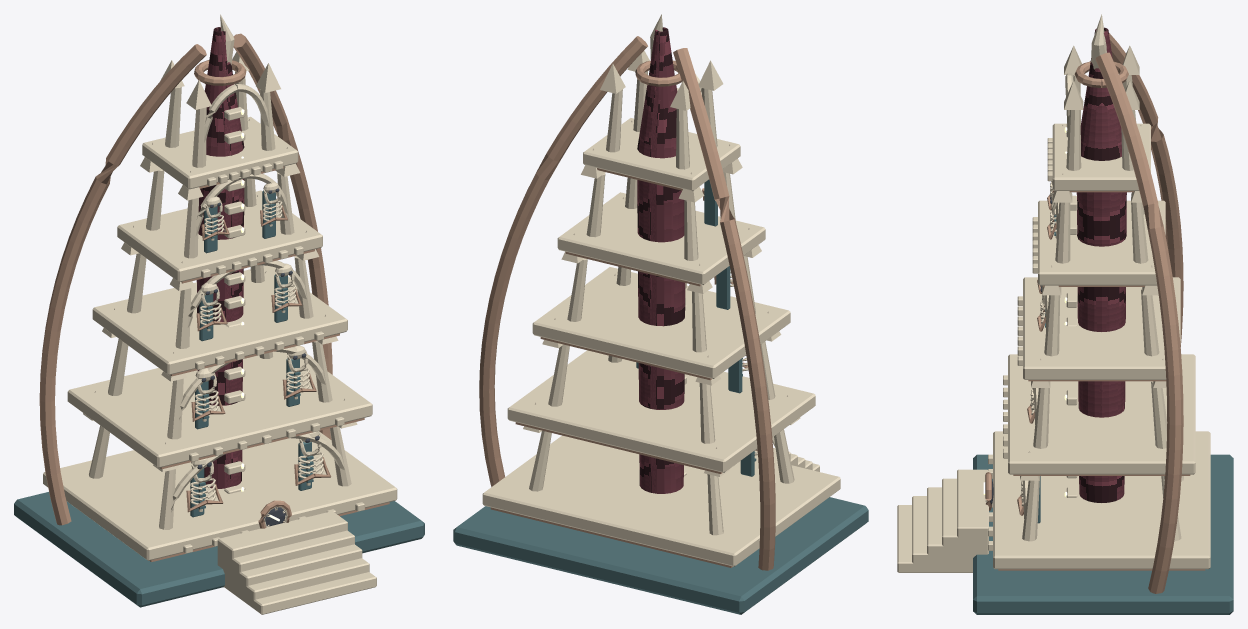
Rendered from intake_ascending_engine.glb.
The picture shows the model from 3 angles, left to right: view 1: azimuth 30°, elevation 25°; view 2: azimuth 150°, elevation 25°; view 3: azimuth 270°, elevation 25°; orthographic projection. The views are drawn at different scales.
Visible parts, largest first — view 1: intake_ascending_engine_warm, intake_ascending_engine_worn, intake_ascending_engine_petrol, intake_ascending_engine_bruised, intake_ascending_engine_deep; view 2: intake_ascending_engine_warm, intake_ascending_engine_petrol, intake_ascending_engine_worn, intake_ascending_engine_bruised; view 3: intake_ascending_engine_warm, intake_ascending_engine_worn, intake_ascending_engine_petrol, intake_ascending_engine_bruised.
Part boxes in pixels (x1,y1,x2,y2): intake_ascending_engine_warm: (43,14,397,614); intake_ascending_engine_worn: (39,33,389,561); intake_ascending_engine_petrol: (14,190,424,607); intake_ascending_engine_bruised: (196,27,244,488); intake_ascending_engine_deep: (197,188,319,526); intake_ascending_engine_warm: (482,14,840,566); intake_ascending_engine_petrol: (453,179,868,614); intake_ascending_engine_worn: (479,36,775,570); intake_ascending_engine_bruised: (637,27,685,493); intake_ascending_engine_warm: (897,14,1210,572); intake_ascending_engine_worn: (985,33,1205,593); intake_ascending_engine_petrol: (973,215,1233,614); intake_ascending_engine_bruised: (1076,27,1126,502).
Bounding box in the file's own units: 4.63 × 7.85 × 4.52.
6 materials, 1 textured.
